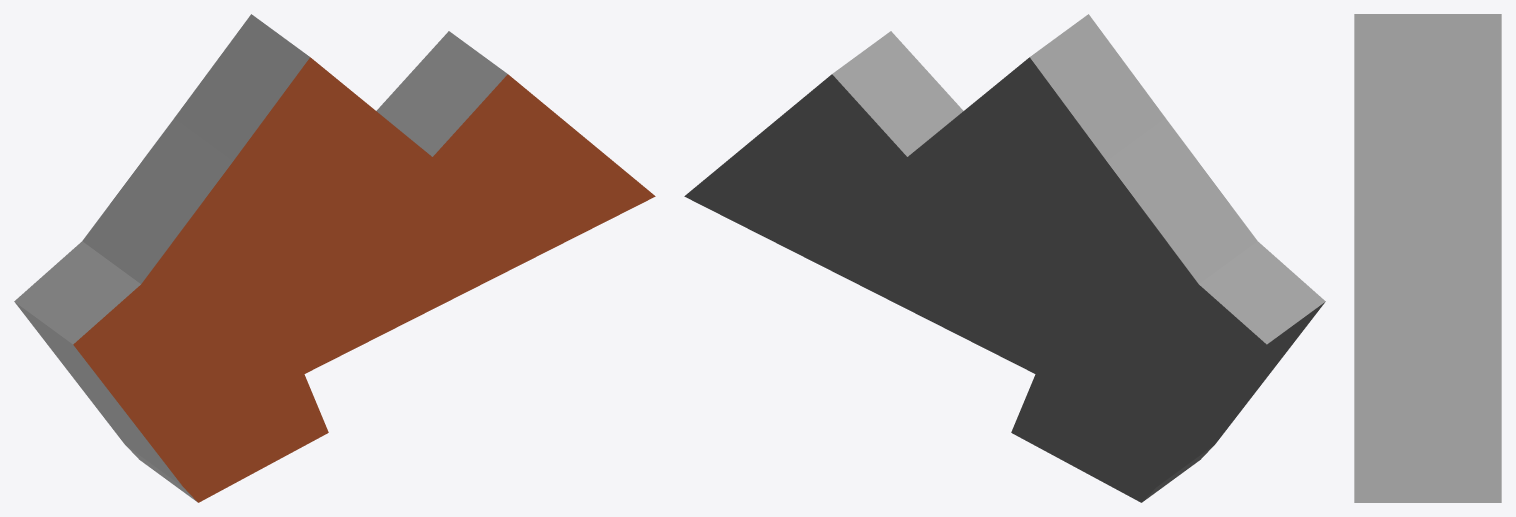
Rendered from construction_4172_assumed_A_Casa_h6m.obj.
3 views of the same model, side by side, from view 1: azimuth 30°, elevation 25°; view 2: azimuth 150°, elevation 25°; view 3: azimuth 270°, elevation 25° (orthographic). The views are drawn at different scales.
Visible parts, largest first — view 1: construction_4172_assumed_A_Casa; view 2: construction_4172_assumed_A_Casa; view 3: construction_4172_assumed_A_Casa.
Boxes of the visible parts, x1,y1,x2,y2 form: construction_4172_assumed_A_Casa: [14, 14, 655, 502]; construction_4172_assumed_A_Casa: [684, 14, 1325, 502]; construction_4172_assumed_A_Casa: [1354, 14, 1501, 502].
Bounding box in the file's own units: 34.23 × 23.49 × 6.
